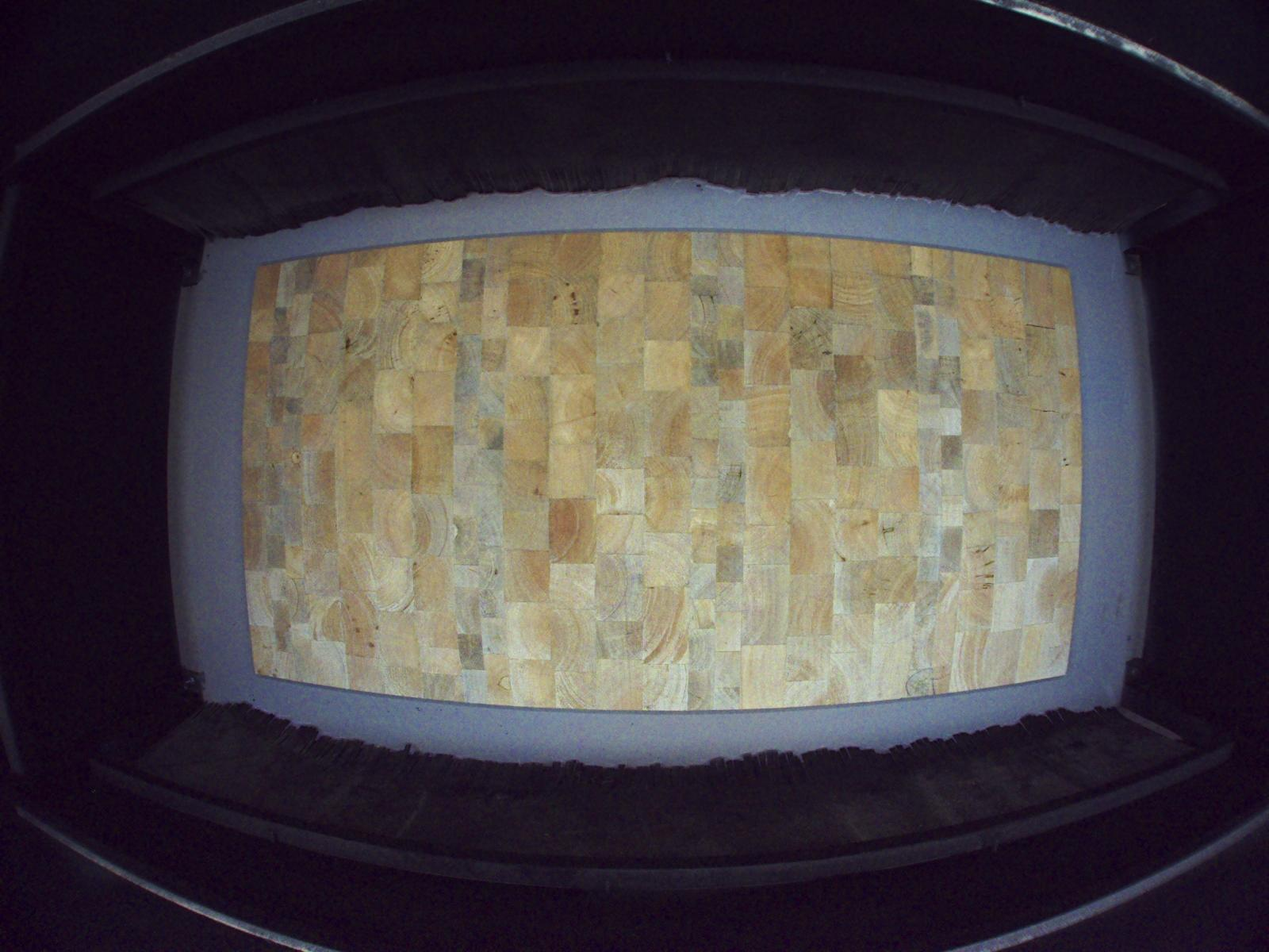sheck_ecuatoriano: (339, 336, 360, 352)
